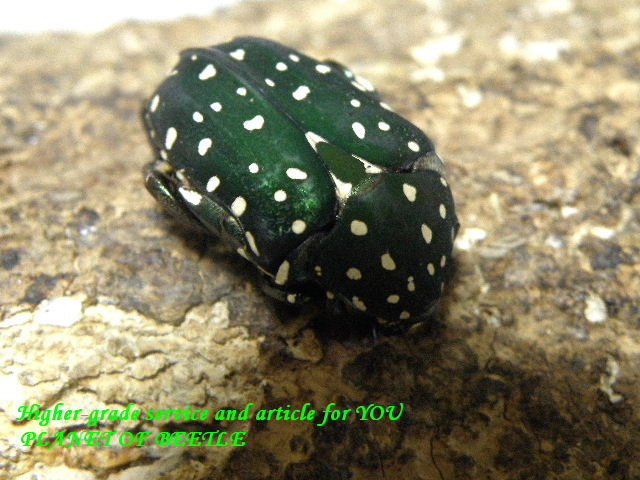Protaetia_niveoguttata: (133, 30, 462, 336)
